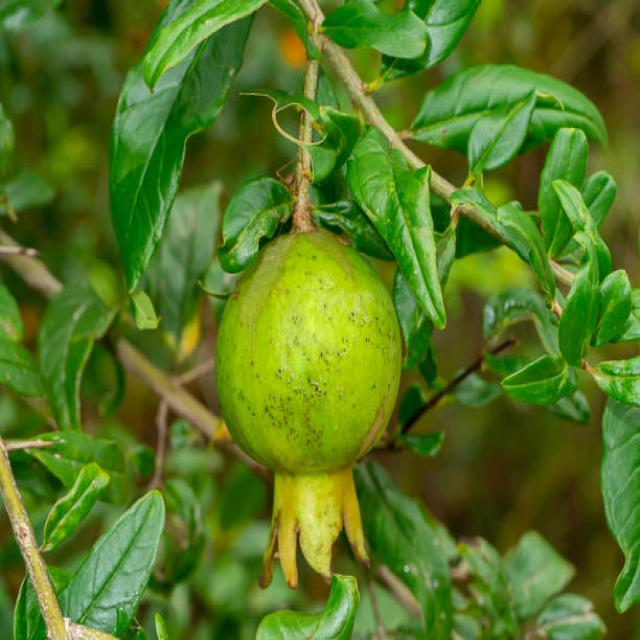Unripe: (218, 227, 404, 592)
